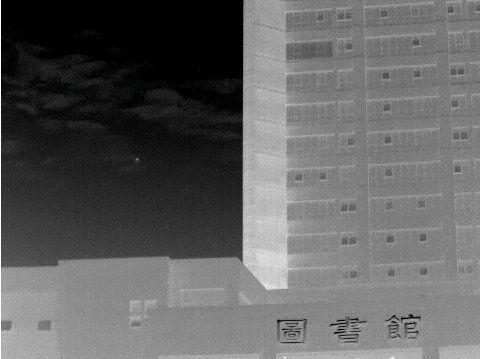dim target: (127, 149, 145, 167)
